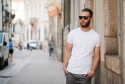male: (78, 8, 94, 25)
